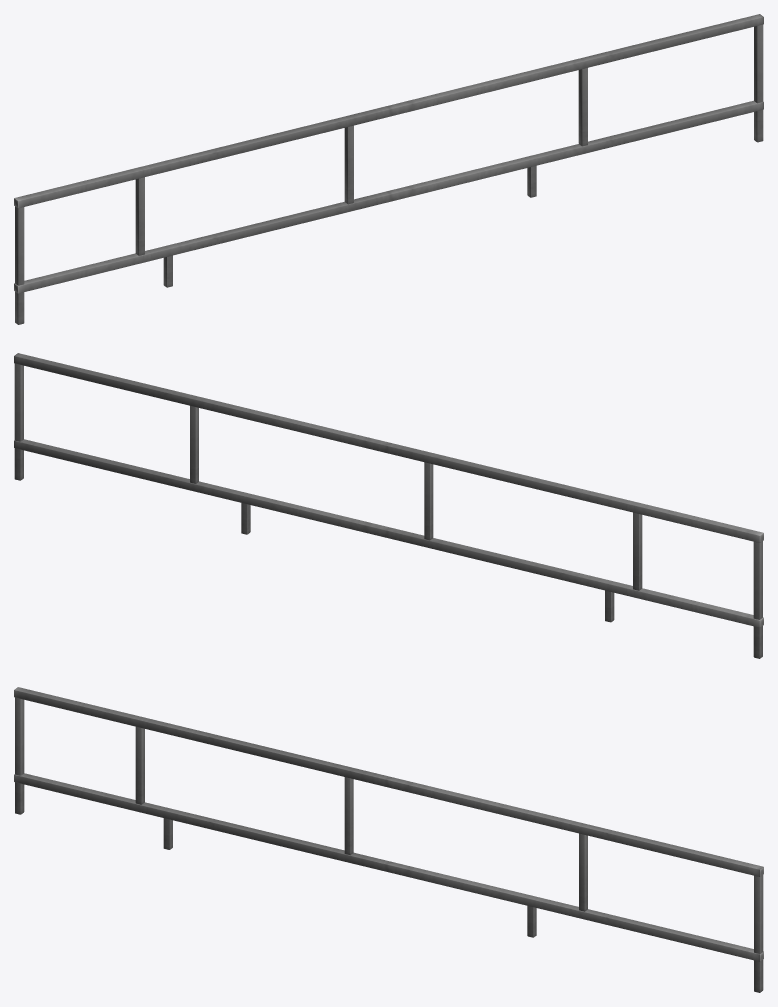
The model's file is ARC1110049.fbx.
The picture shows the model from 3 angles, top to bottom: view 1: azimuth 30°, elevation 25°; view 2: azimuth 150°, elevation 25°; view 3: azimuth 330°, elevation 25°; orthographic projection.
Parts seen in each view (by area): view 1: smARC1110049; view 2: smARC1110049; view 3: smARC1110049.
Part boxes in pixels (left/top/right/bottom): smARC1110049: left=14, top=14, right=763, bottom=324; smARC1110049: left=14, top=353, right=763, bottom=658; smARC1110049: left=14, top=687, right=763, bottom=992.
Bounding box in the file's own units: 771 × 123 × 11.67.
1 material, 1 textured.
